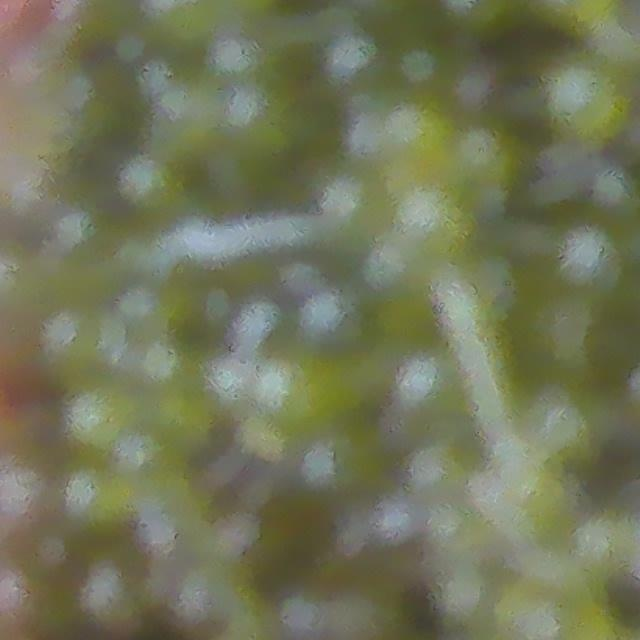SeaGrape: (59, 461, 141, 542), (544, 63, 627, 141), (82, 567, 145, 623)
